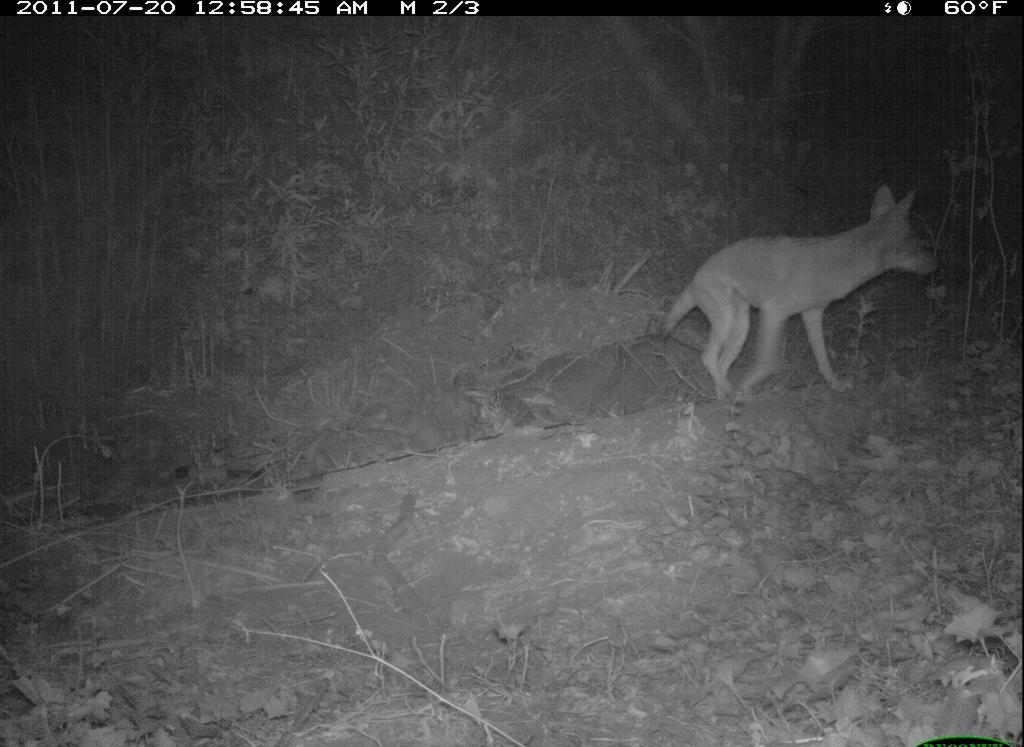coyote: (656, 181, 950, 409)
